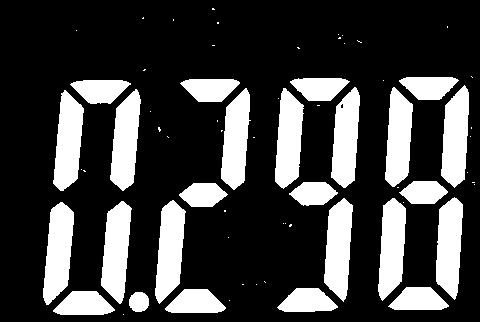0: (45, 76, 142, 320)
2: (156, 80, 251, 312)
8: (376, 72, 472, 310)
9: (271, 77, 361, 313)
dot: (128, 287, 150, 313)
